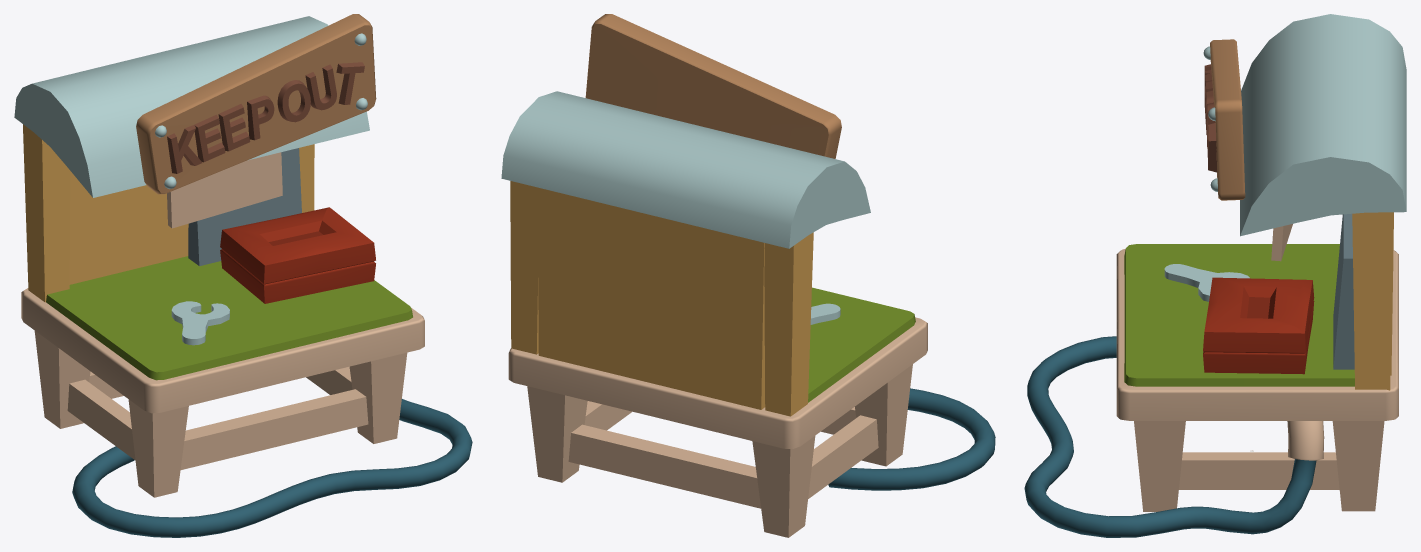
File: BO_Workbench_01.fbx
3 renders of one model, left to right at view 1: azimuth 30°, elevation 25°; view 2: azimuth 150°, elevation 25°; view 3: azimuth 270°, elevation 25°, orthographic. The views are drawn at different scales.
Visible parts, largest first — view 1: BO_Workbench_01; view 2: BO_Workbench_01; view 3: BO_Workbench_01.
Part boxes in pixels (x1,y1,x2,y2): BO_Workbench_01: (14,14,472,537); BO_Workbench_01: (501,14,995,537); BO_Workbench_01: (1024,14,1406,537).
Size of the model in its own units: 208 by 213 by 177.
